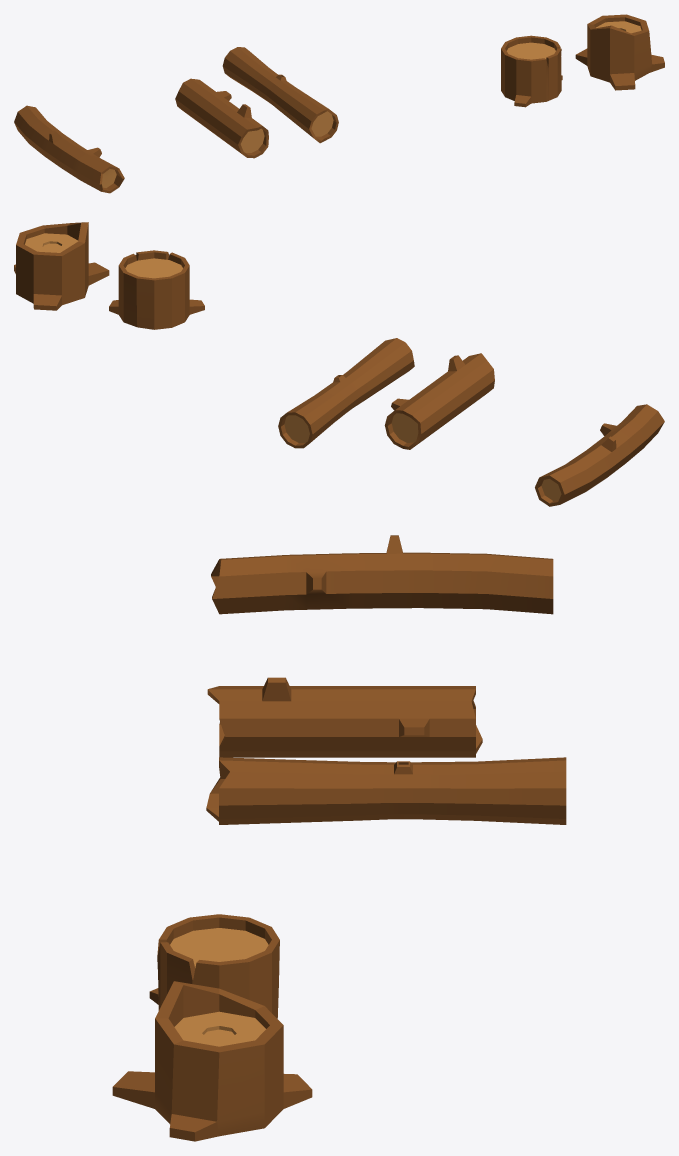
File: TreeStumps.fbx
The picture shows the model from 3 angles, top to bottom: view 1: azimuth 30°, elevation 25°; view 2: azimuth 150°, elevation 25°; view 3: azimuth 270°, elevation 25°; orthographic projection. The views are drawn at different scales.
Parts seen in each view (by area): view 1: Cut_Wood3, Cut_Wood5, Cut_Wood4, Cut_Wood2, Cut_Wood.001; view 2: Cut_Wood3, Cut_Wood5, Cut_Wood4, Cut_Wood2, Cut_Wood.001; view 3: Cut_Wood5, Cut_Wood3, Cut_Wood.001, Cut_Wood2, Cut_Wood4.
Part boxes in pixels (box(x1,y1,x2,y2)): Cut_Wood3: box(575, 14, 664, 90); Cut_Wood5: box(222, 47, 338, 143); Cut_Wood4: box(501, 35, 562, 107); Cut_Wood2: box(175, 78, 268, 158); Cut_Wood.001: box(14, 105, 124, 193); Cut_Wood3: box(14, 222, 109, 310); Cut_Wood5: box(278, 338, 414, 448); Cut_Wood4: box(109, 250, 204, 329); Cut_Wood2: box(384, 353, 494, 449); Cut_Wood.001: box(535, 404, 664, 506); Cut_Wood5: box(206, 757, 566, 824); Cut_Wood3: box(112, 981, 312, 1141); Cut_Wood.001: box(211, 535, 553, 614); Cut_Wood2: box(207, 677, 482, 757); Cut_Wood4: box(149, 914, 279, 1018).
Size of the model in its own units: 16.6 by 1.53 by 5.76.
1 material, 1 textured.
